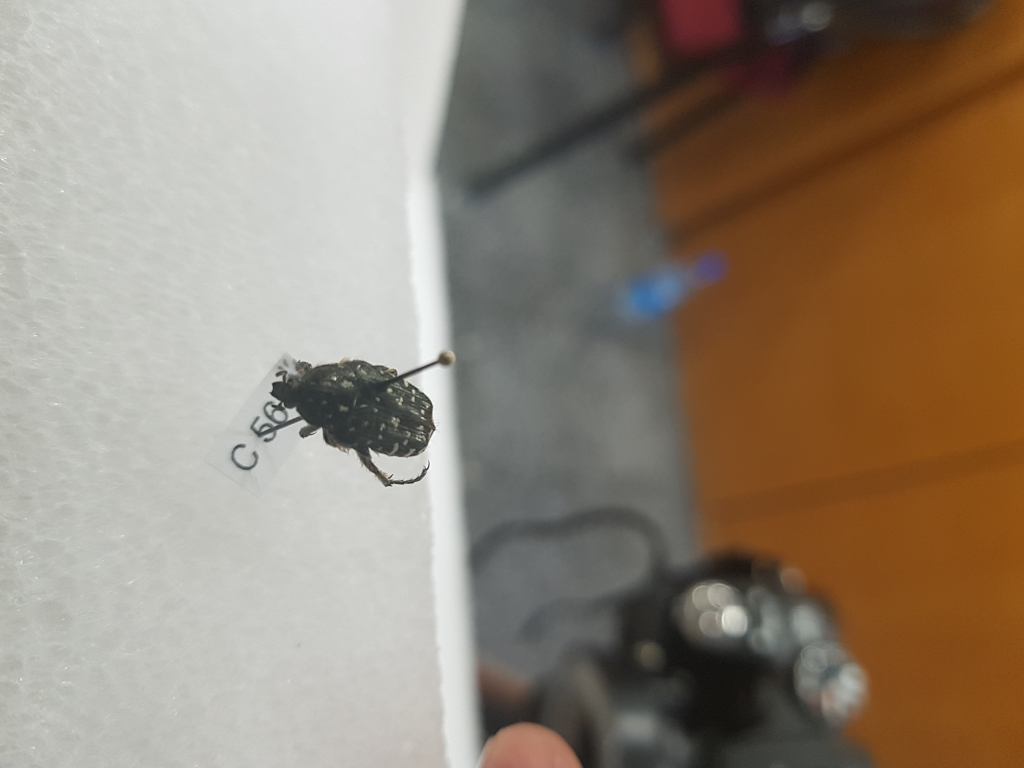Oxythyrea_funesta: (267, 352, 434, 487)
